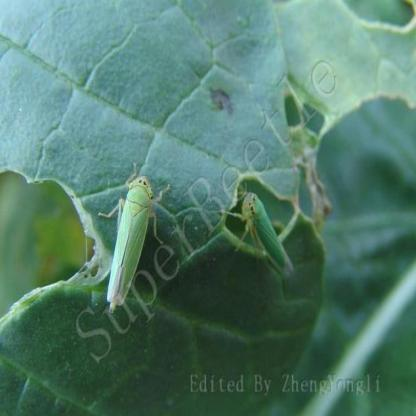Green-Leafhopper: (100, 162, 172, 315), (225, 187, 296, 279)
